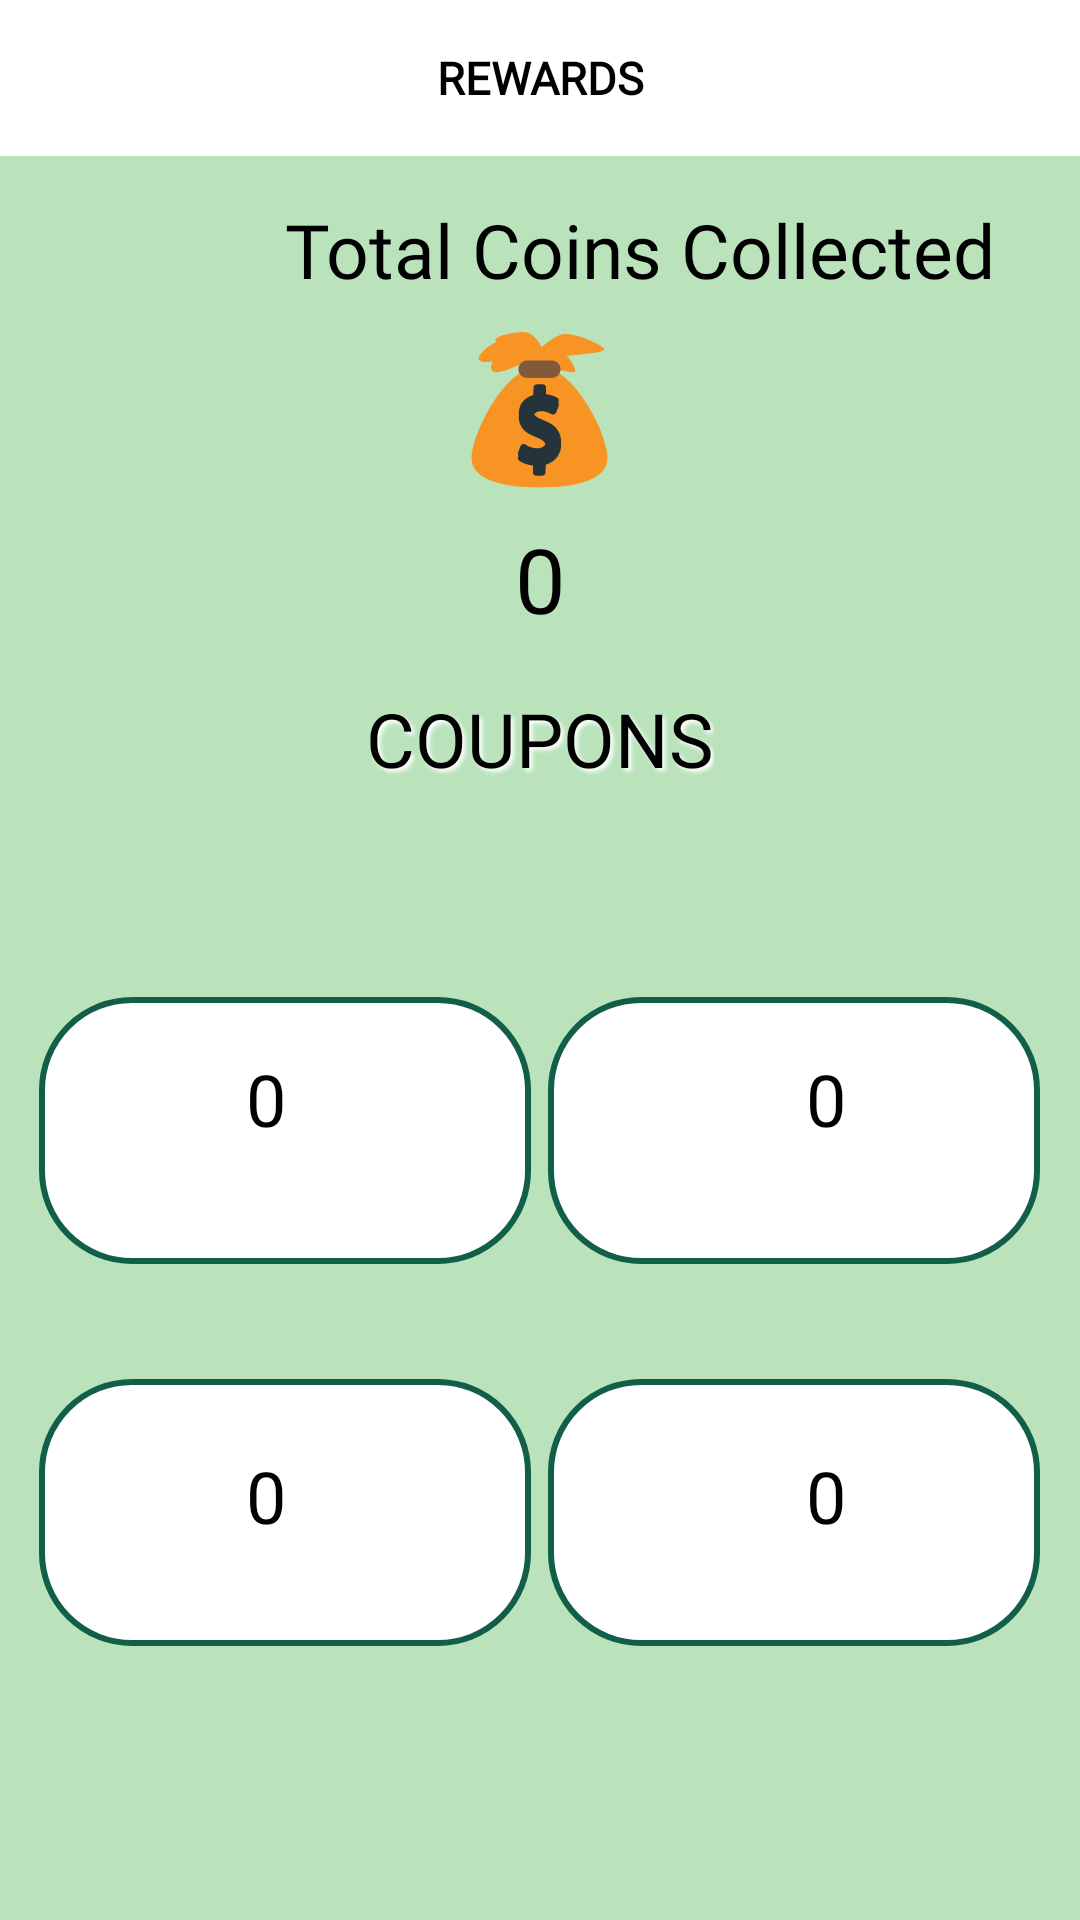

Locate icon controls on the screen. Image size 1080*1920, boxes as [x1,y1,x2,y2].
moneybag: [471,332,608,488]
